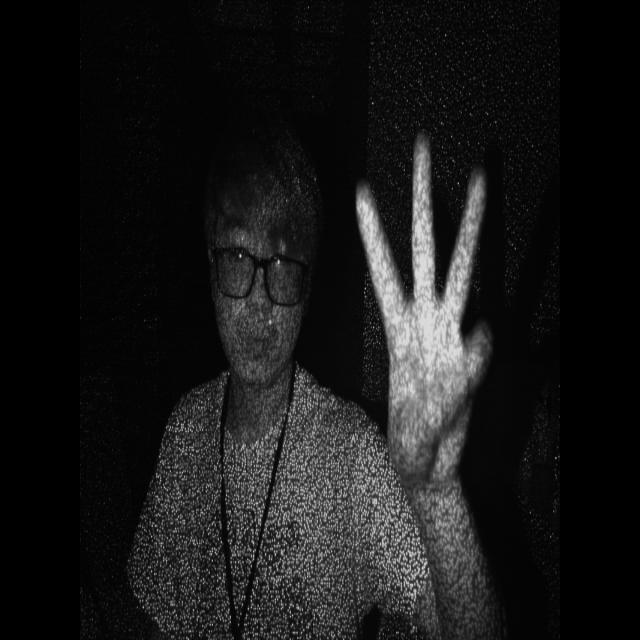W: (344, 111, 508, 494)
